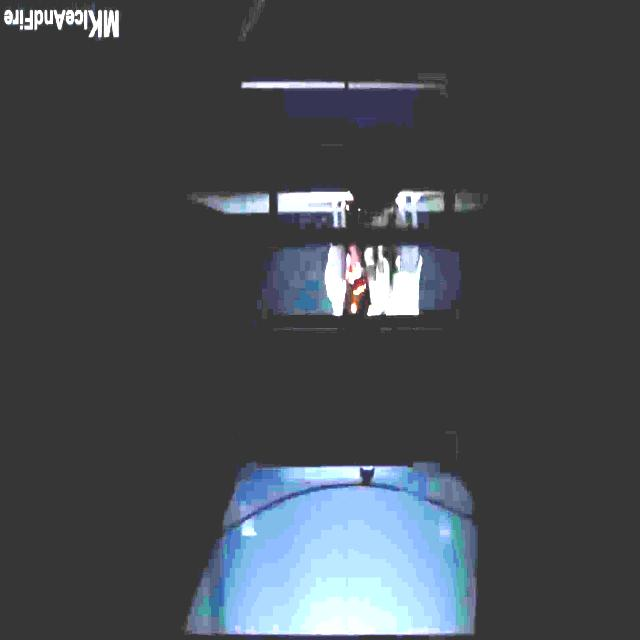boy: (352, 197, 362, 278)
zombie: (397, 196, 421, 315), (325, 202, 347, 315), (368, 282, 383, 314)
